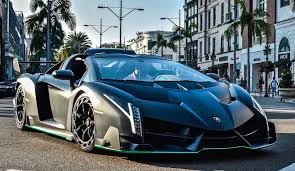Lamborghini: (18, 53, 273, 152)
